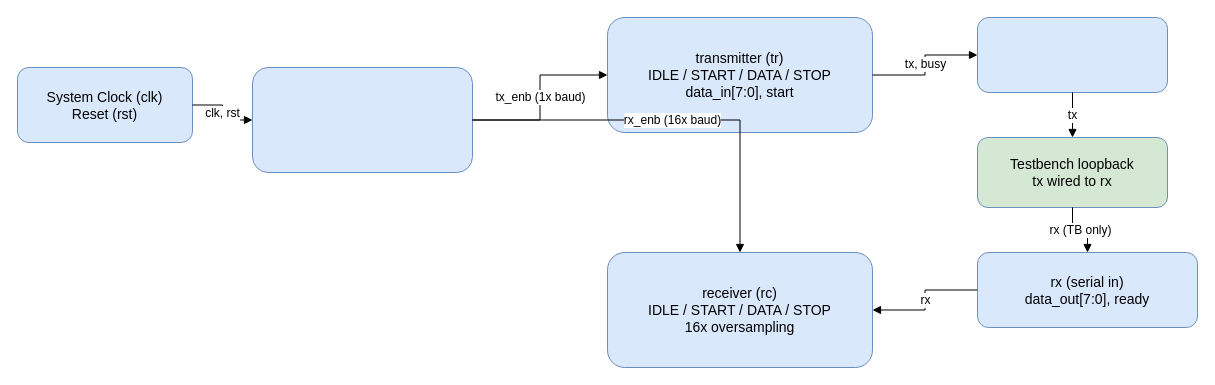
The diagram is 1215 pixels wide and 385 high, and some of its shapes have lost their labels. Here are the shapes that lost their labels. From the top down, the centre of each, then its label:
point (1072, 54): tx (serial out) busy
point (362, 119): baud_rate (br) CLK_FREQ=10 MHz BAUD=9600
